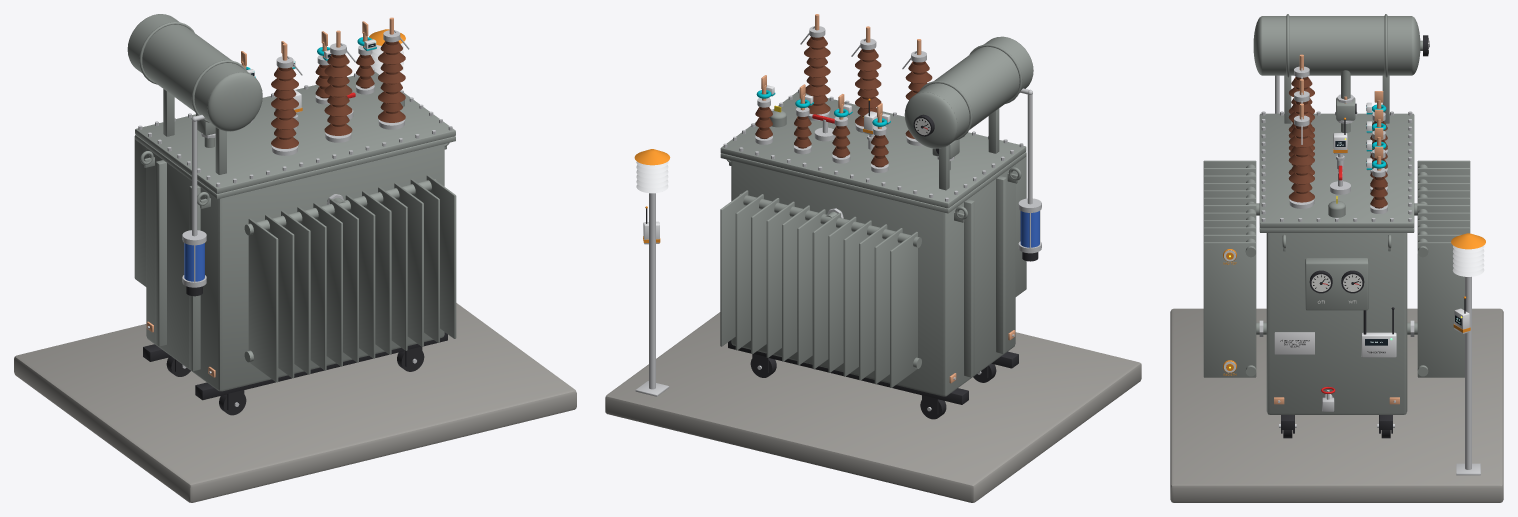
File: transformer.glb
The picture shows the model from 3 angles, left to right: view 1: azimuth 30°, elevation 25°; view 2: azimuth 150°, elevation 25°; view 3: azimuth 270°, elevation 25°; orthographic projection. The views are drawn at different scales.
Parts seen in each view (by area): view 1: Concrete_Plinth, Radiator_Left, Tank, Cover, Conservator, Rear_Stiffeners, Base_Skid_Rollers, HV_Bushing_V, HV_Bushing_U, HV_Bushing_W, Silica_Gel_Breather, Radiator_Right (+3 smaller); view 2: Concrete_Plinth, Radiator_Right, Tank, Cover, Conservator, Rear_Stiffeners, IoT_Ambient_Mast, Base_Skid_Rollers, Silica_Gel_Breather, HV_Bushing_W, HV_Bushing_V, Radiator_Left (+6 smaller); view 3: Concrete_Plinth, Tank, Cover, Radiator_Left, Radiator_Right, Conservator, IoT_Ambient_Mast, Marshalling_Box, HV_Bushing_W, Digital_Twin_Gateway, Nameplate, Buchholz_Relay_and_Pipe (+8 smaller).
Boxes of the visible parts, x1,y1,x2,y2 form: Concrete_Plinth: (14, 303, 576, 502); Radiator_Left: (244, 175, 456, 382); Tank: (146, 144, 444, 391); Cover: (135, 71, 455, 199); Conservator: (127, 14, 262, 174); Rear_Stiffeners: (155, 160, 200, 371); Base_Skid_Rollers: (143, 332, 447, 415); HV_Bushing_V: (324, 30, 355, 142); HV_Bushing_U: (271, 43, 302, 155); HV_Bushing_W: (378, 17, 409, 129); Silica_Gel_Breather: (182, 114, 206, 296); Radiator_Right: (134, 136, 146, 286); Concrete_Plinth: (605, 312, 1141, 502); Radiator_Right: (720, 190, 921, 387); Tank: (731, 160, 1015, 396); Cover: (720, 91, 1026, 213); Conservator: (904, 36, 1033, 190); Rear_Stiffeners: (964, 176, 1006, 377); IoT_Ambient_Mast: (634, 149, 670, 396); Base_Skid_Rollers: (728, 340, 1018, 419); Silica_Gel_Breather: (1018, 88, 1041, 261); HV_Bushing_W: (800, 14, 830, 120); HV_Bushing_V: (851, 26, 881, 133); Radiator_Left: (1015, 153, 1026, 296); Concrete_Plinth: (1170, 308, 1503, 502); Tank: (1266, 233, 1407, 414); Cover: (1259, 113, 1414, 232); Radiator_Left: (1203, 160, 1266, 377); Radiator_Right: (1407, 160, 1470, 377); Conservator: (1253, 14, 1420, 123); IoT_Ambient_Mast: (1451, 233, 1485, 475); Marshalling_Box: (1305, 258, 1368, 310); HV_Bushing_W: (1288, 103, 1314, 208); Digital_Twin_Gateway: (1361, 307, 1396, 357); Nameplate: (1274, 332, 1314, 354); Buchholz_Relay_and_Pipe: (1336, 70, 1356, 132).
Size of the model in its own units: 2.4 by 2.22 by 1.9.
